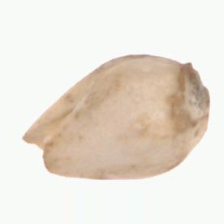L1: (176, 60, 211, 127), (21, 120, 54, 174)
L2: (22, 53, 209, 181)
